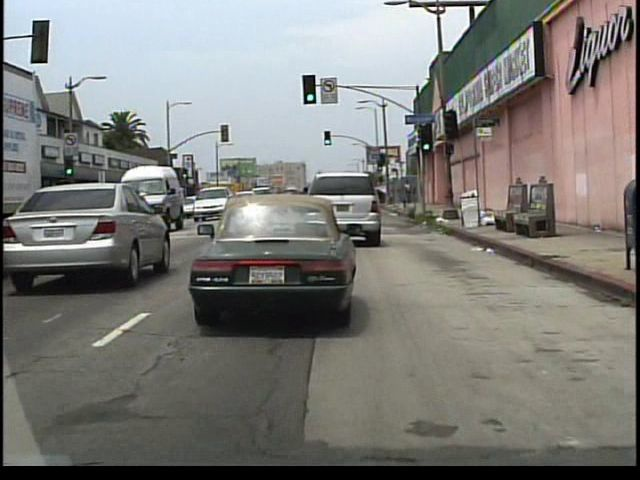person: (404, 179, 414, 204)
